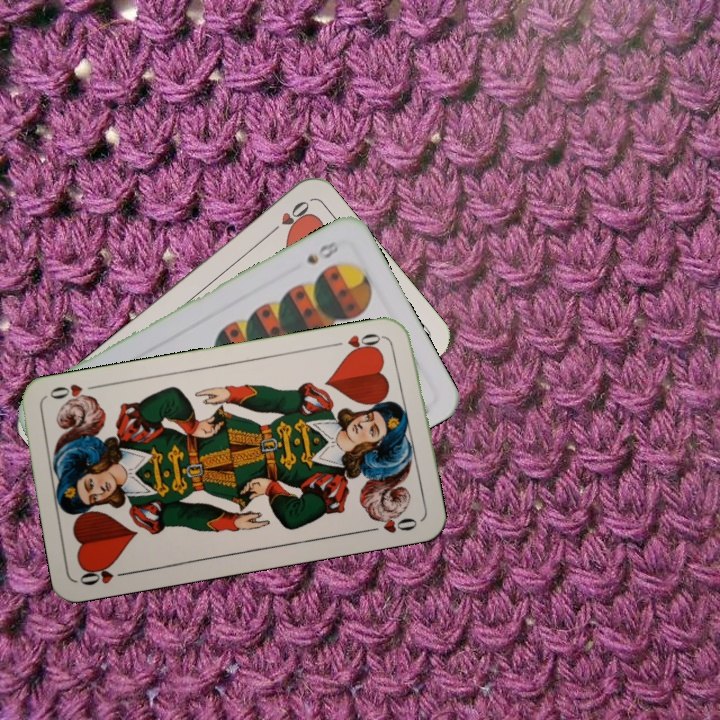HO: (263, 196, 312, 240), (329, 329, 388, 358), (76, 560, 135, 588)
S8: (302, 237, 344, 267)
